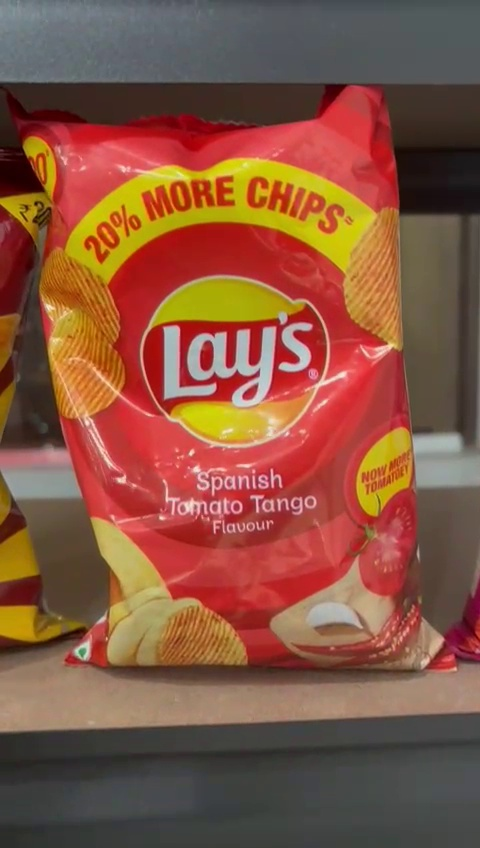Lays: (18, 116, 444, 680)
